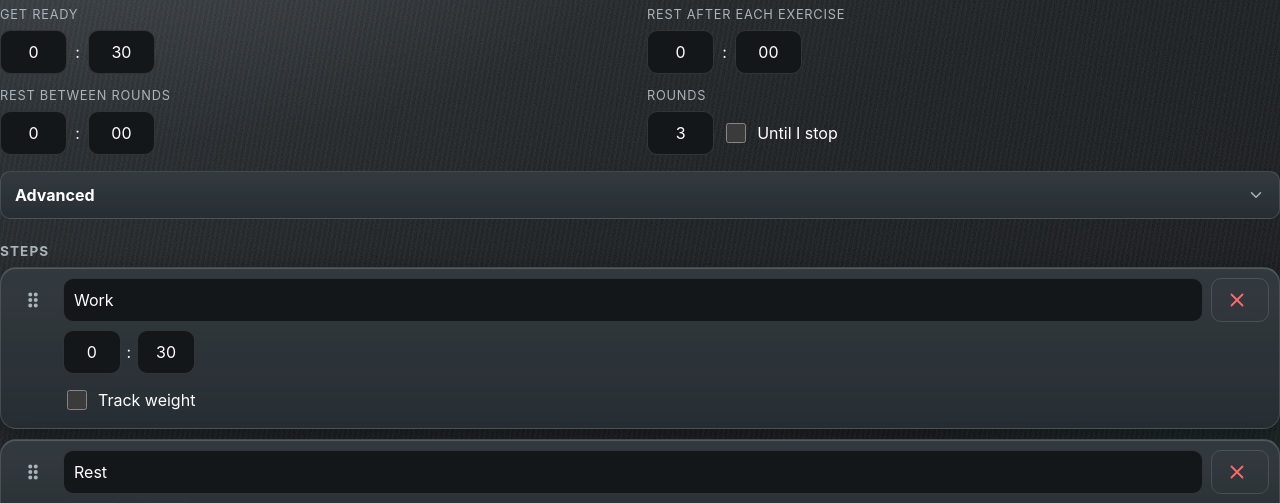
Test: Editor steps › changing a step to Tap hides its time and shows reps
The image size is (1280, 503).
Click the button "Advanced": click(55, 195) [0, 171, 1279, 219]
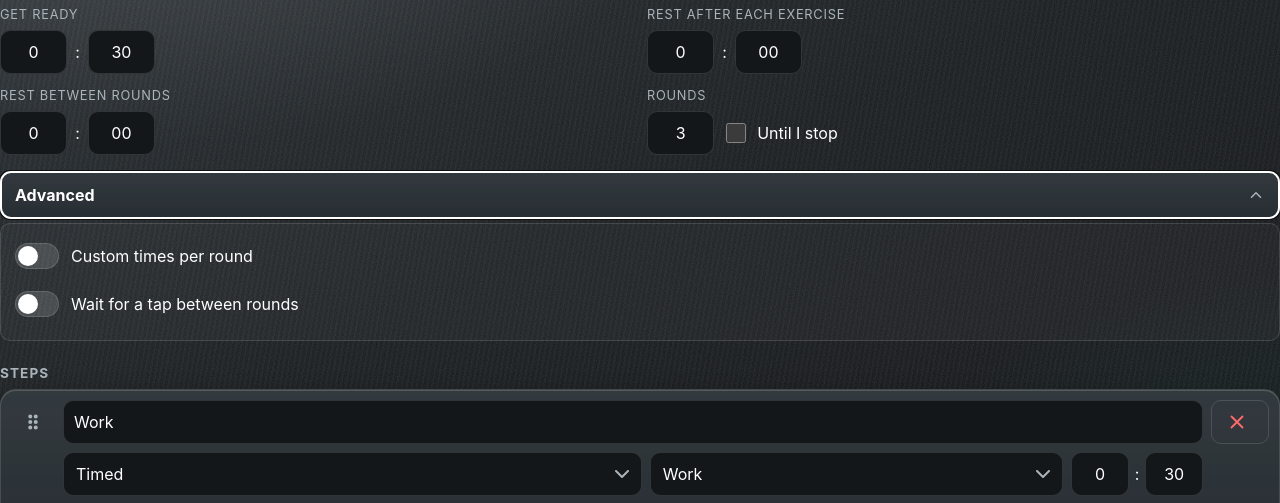
expect the number field named "Step 1 time seconds" is shown: met, box [1145, 452, 1203, 496]
Select "Tap when done" in the dropdown named "Step 1 type": (352, 474) [63, 452, 642, 496]
(page scrolled)
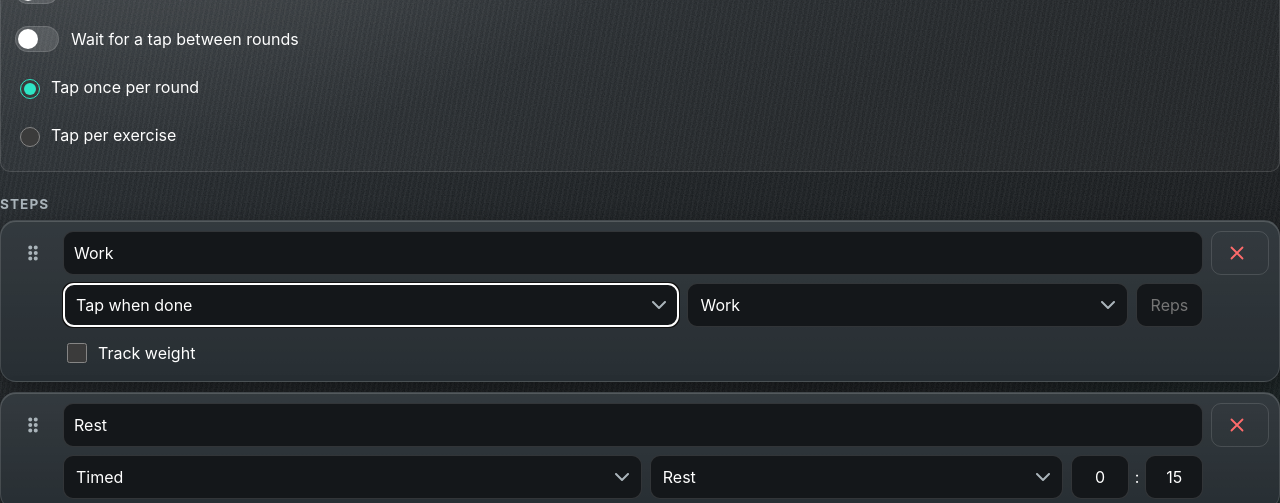
expect the number field named "Step 1 reps" is shown: met, box [1136, 283, 1203, 327]
